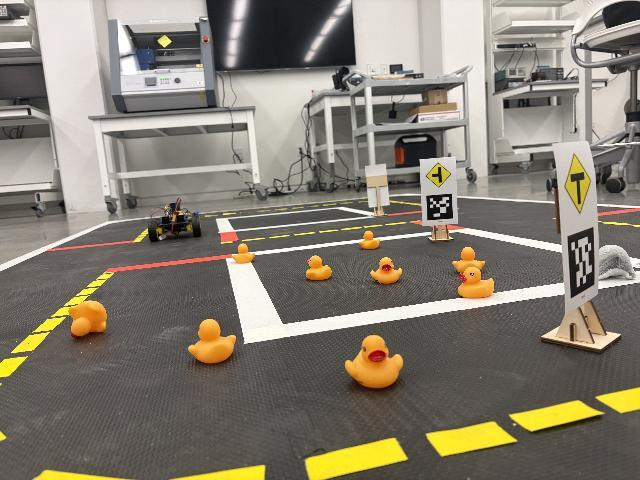Duck: (345, 333, 403, 390), (188, 318, 237, 364), (69, 300, 107, 337), (457, 266, 495, 299), (369, 256, 402, 285), (452, 246, 485, 274), (305, 254, 333, 281), (231, 243, 256, 264), (359, 231, 379, 250)
